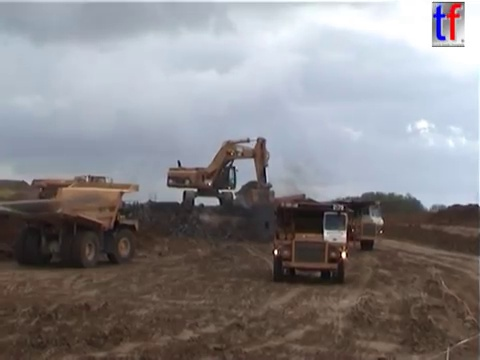excavator: (164, 135, 279, 216), (247, 190, 323, 223)
truck: (1, 179, 141, 270), (263, 200, 353, 284), (281, 198, 385, 252), (30, 174, 115, 204)
